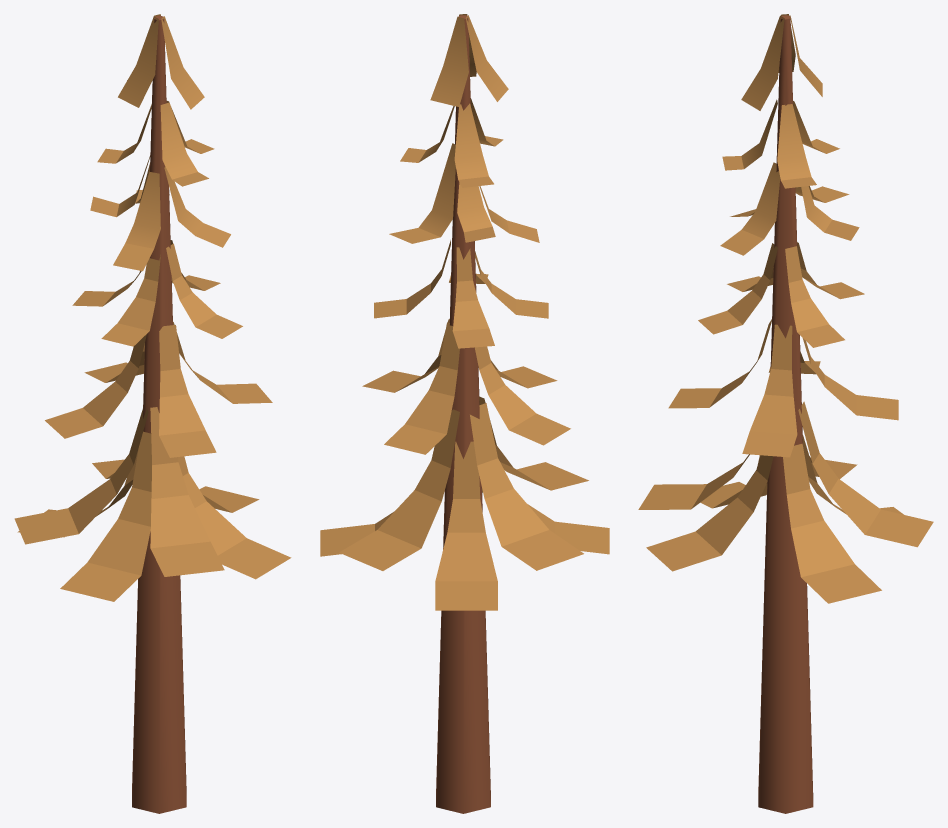
The model's file is cozy_lake_tree_pine_004.glb.
3 renders of one model, left to right at view 1: azimuth 30°, elevation 25°; view 2: azimuth 150°, elevation 25°; view 3: azimuth 270°, elevation 25°, orthographic.
Visible parts, largest first — view 1: Tree_Pine_004; view 2: Tree_Pine_004; view 3: Tree_Pine_004.
Part boxes in pixels (x1,y1,x2,y2): Tree_Pine_004: (14,14,291,813); Tree_Pine_004: (320,14,609,813); Tree_Pine_004: (638,14,933,813).
Bounding box in the file's own units: 40.86 × 123 × 41.97.
